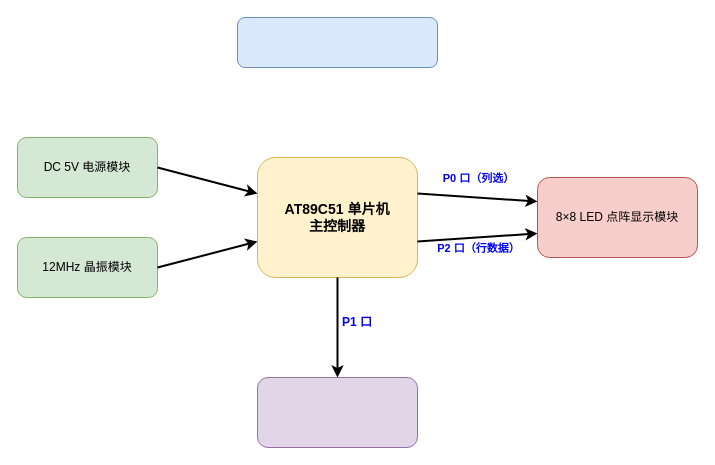
Some shapes in this 715 by 465 pixel diagram are drawn without their labels. Here are the shapes that lost their labels. From the top down, the centre of each, then its label:
At (x=337, y=42): "系统总体框图".
At (x=337, y=412): "3个楼层呼叫按键 K1–K3（1–3层）".
